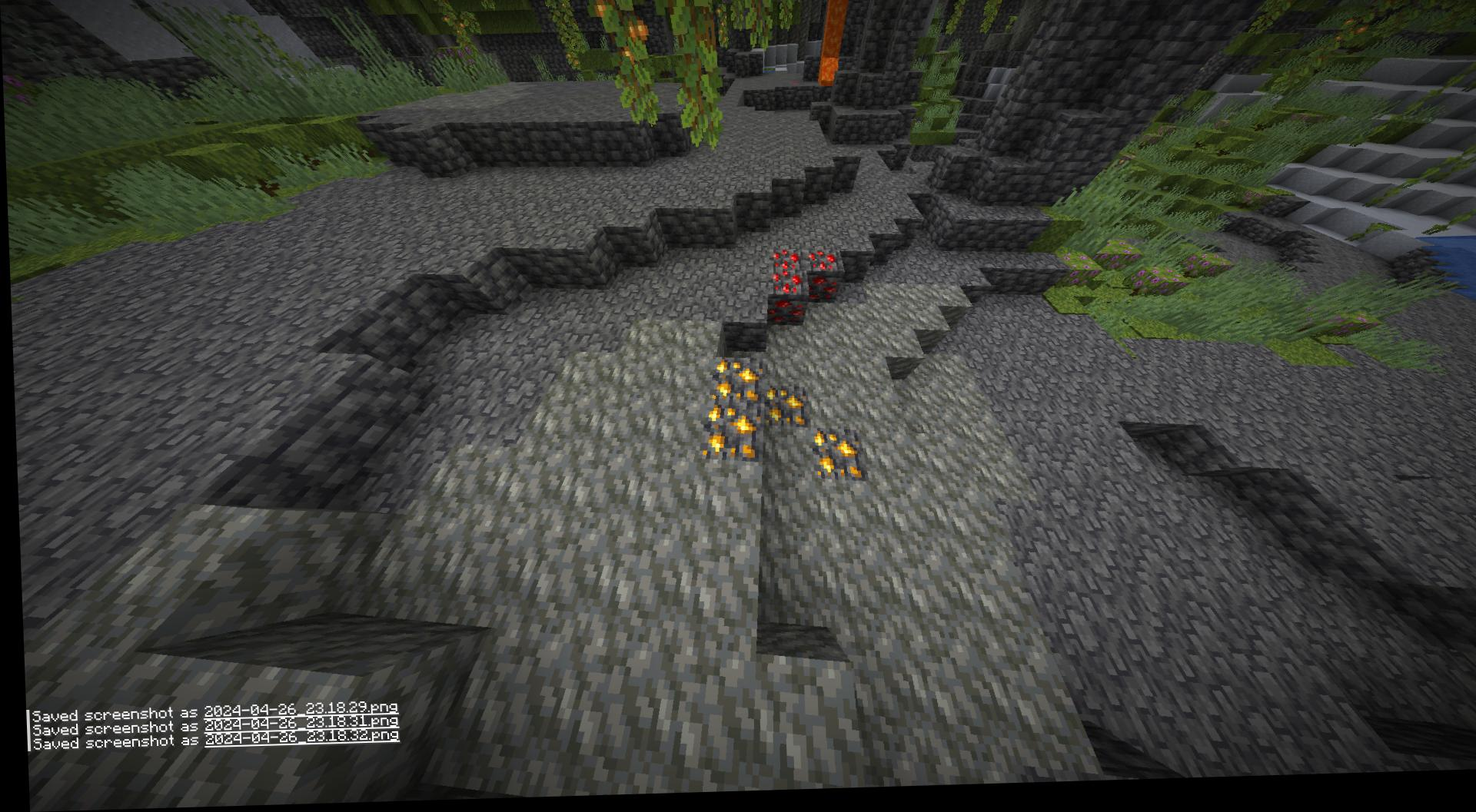gold ore: (806, 430, 865, 490), (698, 411, 758, 466), (705, 359, 761, 410), (754, 382, 806, 436)
redstone ore: (764, 299, 804, 336), (800, 250, 838, 282), (766, 249, 803, 280), (803, 279, 841, 309), (768, 275, 803, 303)
